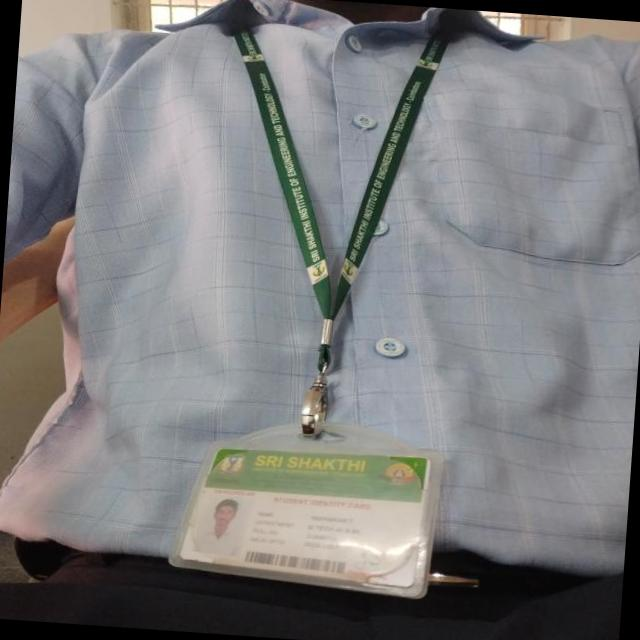id_card: (165, 18, 472, 598)
